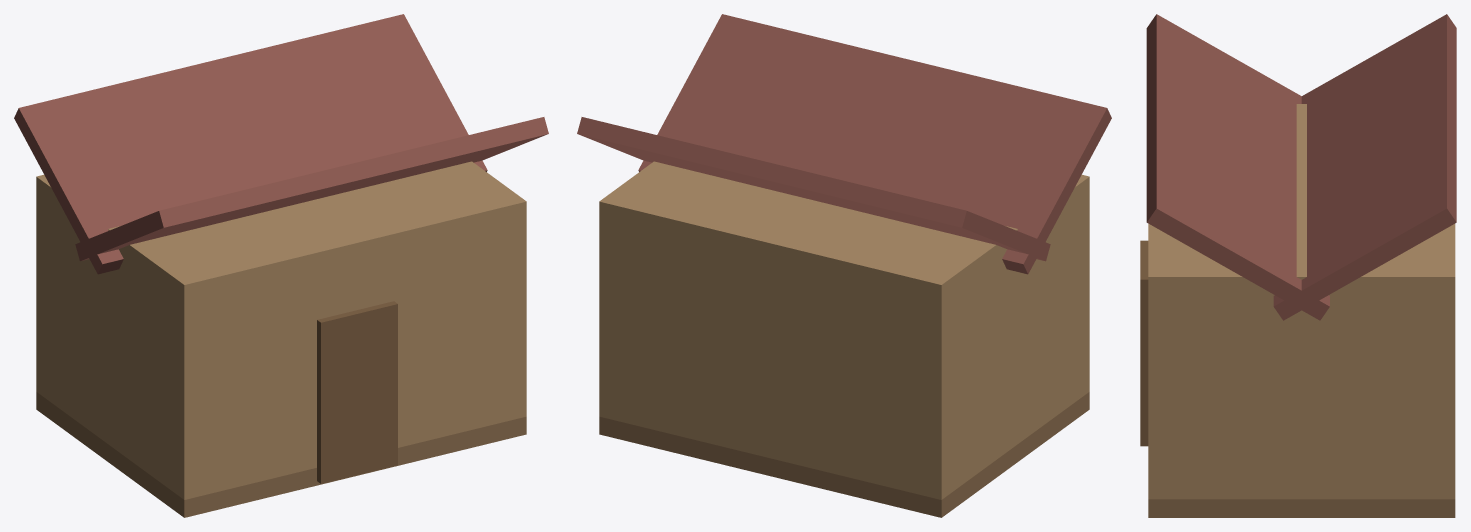
Rendered from cabin.glb.
The picture shows the model from 3 angles, left to right: view 1: azimuth 30°, elevation 25°; view 2: azimuth 150°, elevation 25°; view 3: azimuth 270°, elevation 25°; orthographic projection. The views are drawn at different scales.
Parts seen in each view (by area): view 1: walls, roof_a, door, roof_b, floor; view 2: walls, roof_b, roof_a, floor; view 3: walls, roof_b, roof_a, floor, door.
Part boxes in pixels (x1,y1,x2,y2): walls: (36, 161, 526, 499); roof_a: (14, 14, 487, 274); door: (317, 301, 397, 483); roof_b: (75, 117, 548, 261); floor: (36, 392, 526, 517); walls: (599, 161, 1089, 499); roof_b: (638, 14, 1111, 274); roof_a: (577, 117, 1050, 261); floor: (599, 392, 1089, 517); walls: (1148, 104, 1455, 499); roof_b: (1146, 14, 1329, 320); roof_a: (1273, 14, 1456, 320); floor: (1148, 499, 1455, 517); door: (1140, 240, 1148, 446).
Bounding box in the file's own units: 4.5 × 3.46 × 3.1.
